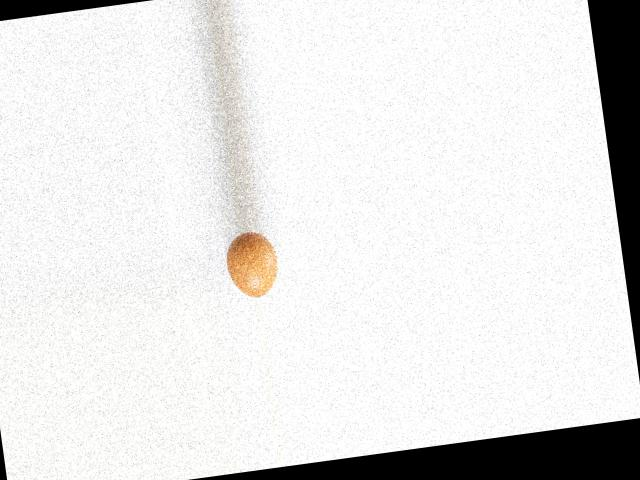egg: (222, 229, 280, 300)
